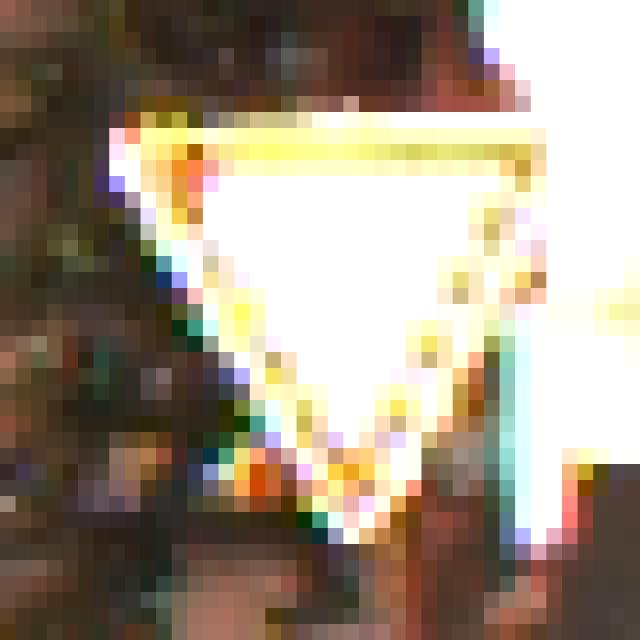Give Way: (95, 97, 563, 561)
